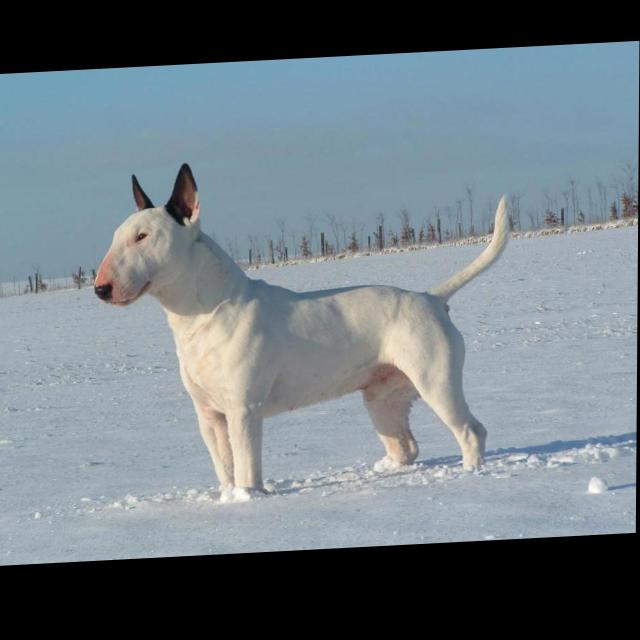bullterrier: (94, 152, 514, 513)
